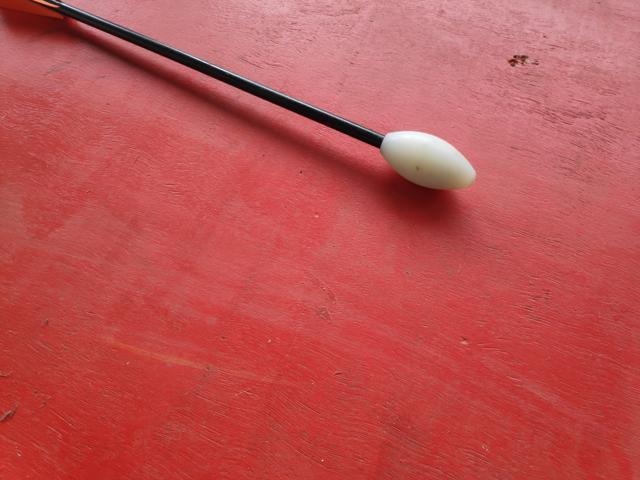Head: (373, 128, 480, 193)
